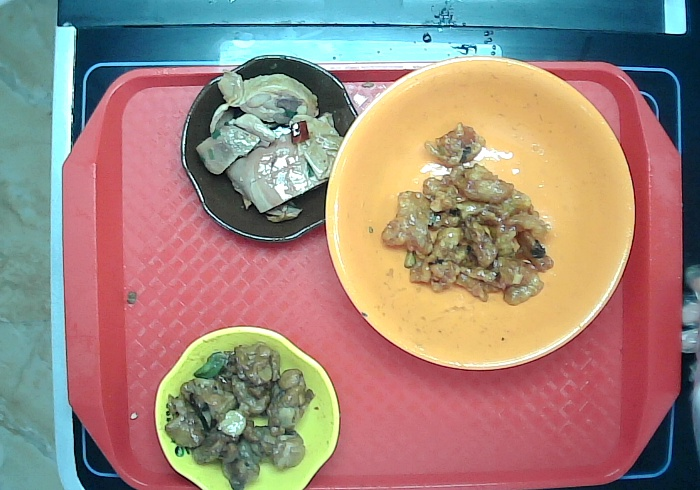YKMZ-Huang_Se_Ao_Bian_Wan: (147, 322, 345, 490)
YKMZ-Ju_Se_Tang_Wan: (322, 50, 646, 381)
YKMZ-Ka_Fei_Ao_Bian_Wan: (171, 51, 364, 245)
